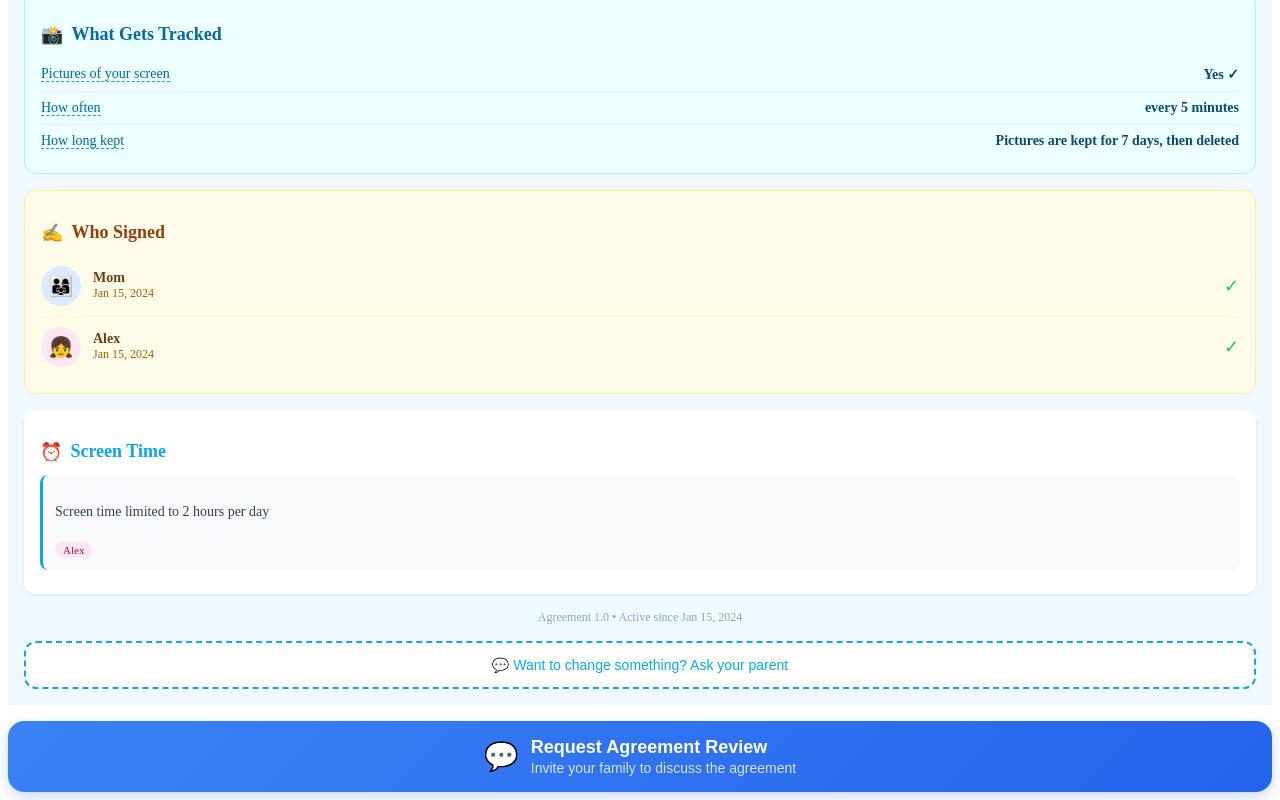
Test: ChildAgreementContainer › Task 6.1: Connect onRequestChange to open modal › should open modal when request change button is clicked
(page scrolled)
What coordinates should you click on to do the following:
click the button with test id "request-change-button"
I would click on:
 (640, 665)
Its box is top-left (24, 641), bottom-right (1256, 689).
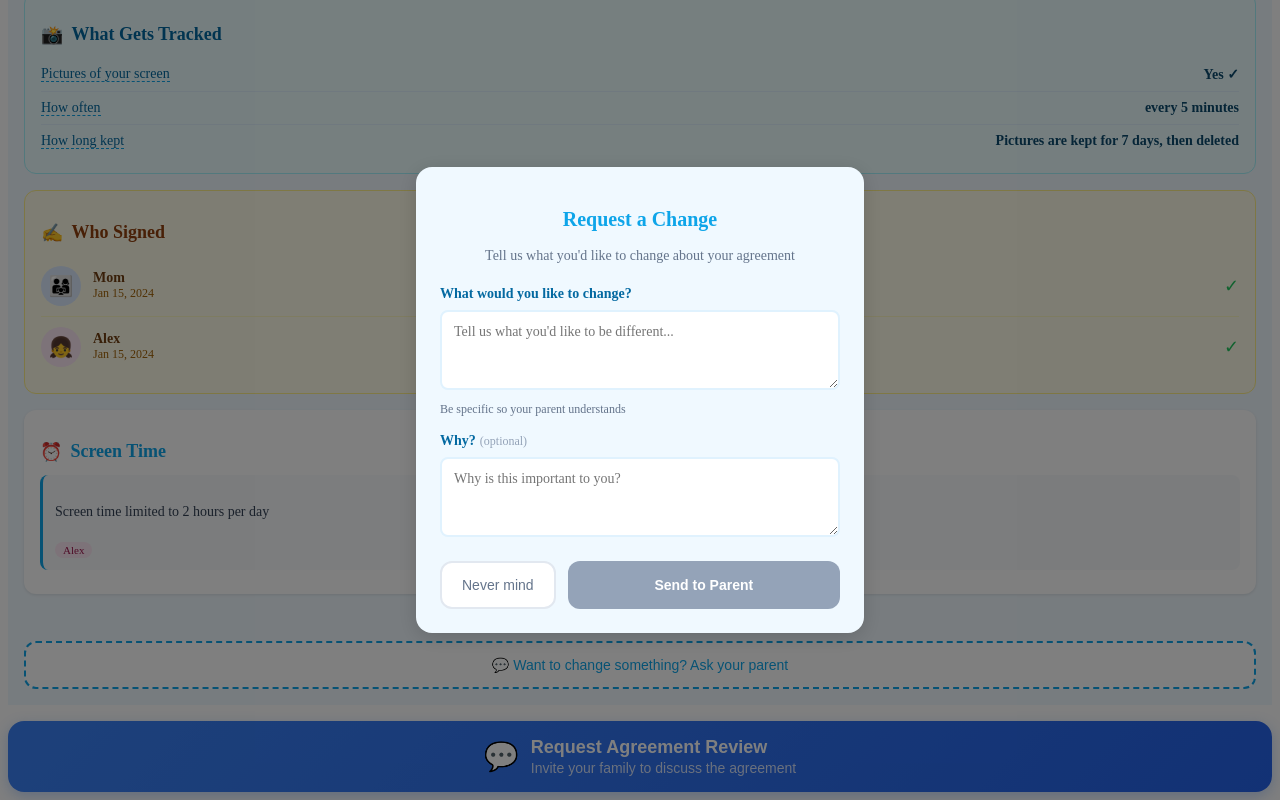
Now the element with test id "change-request-modal" is shown, box top-left (416, 167), bottom-right (864, 633)
